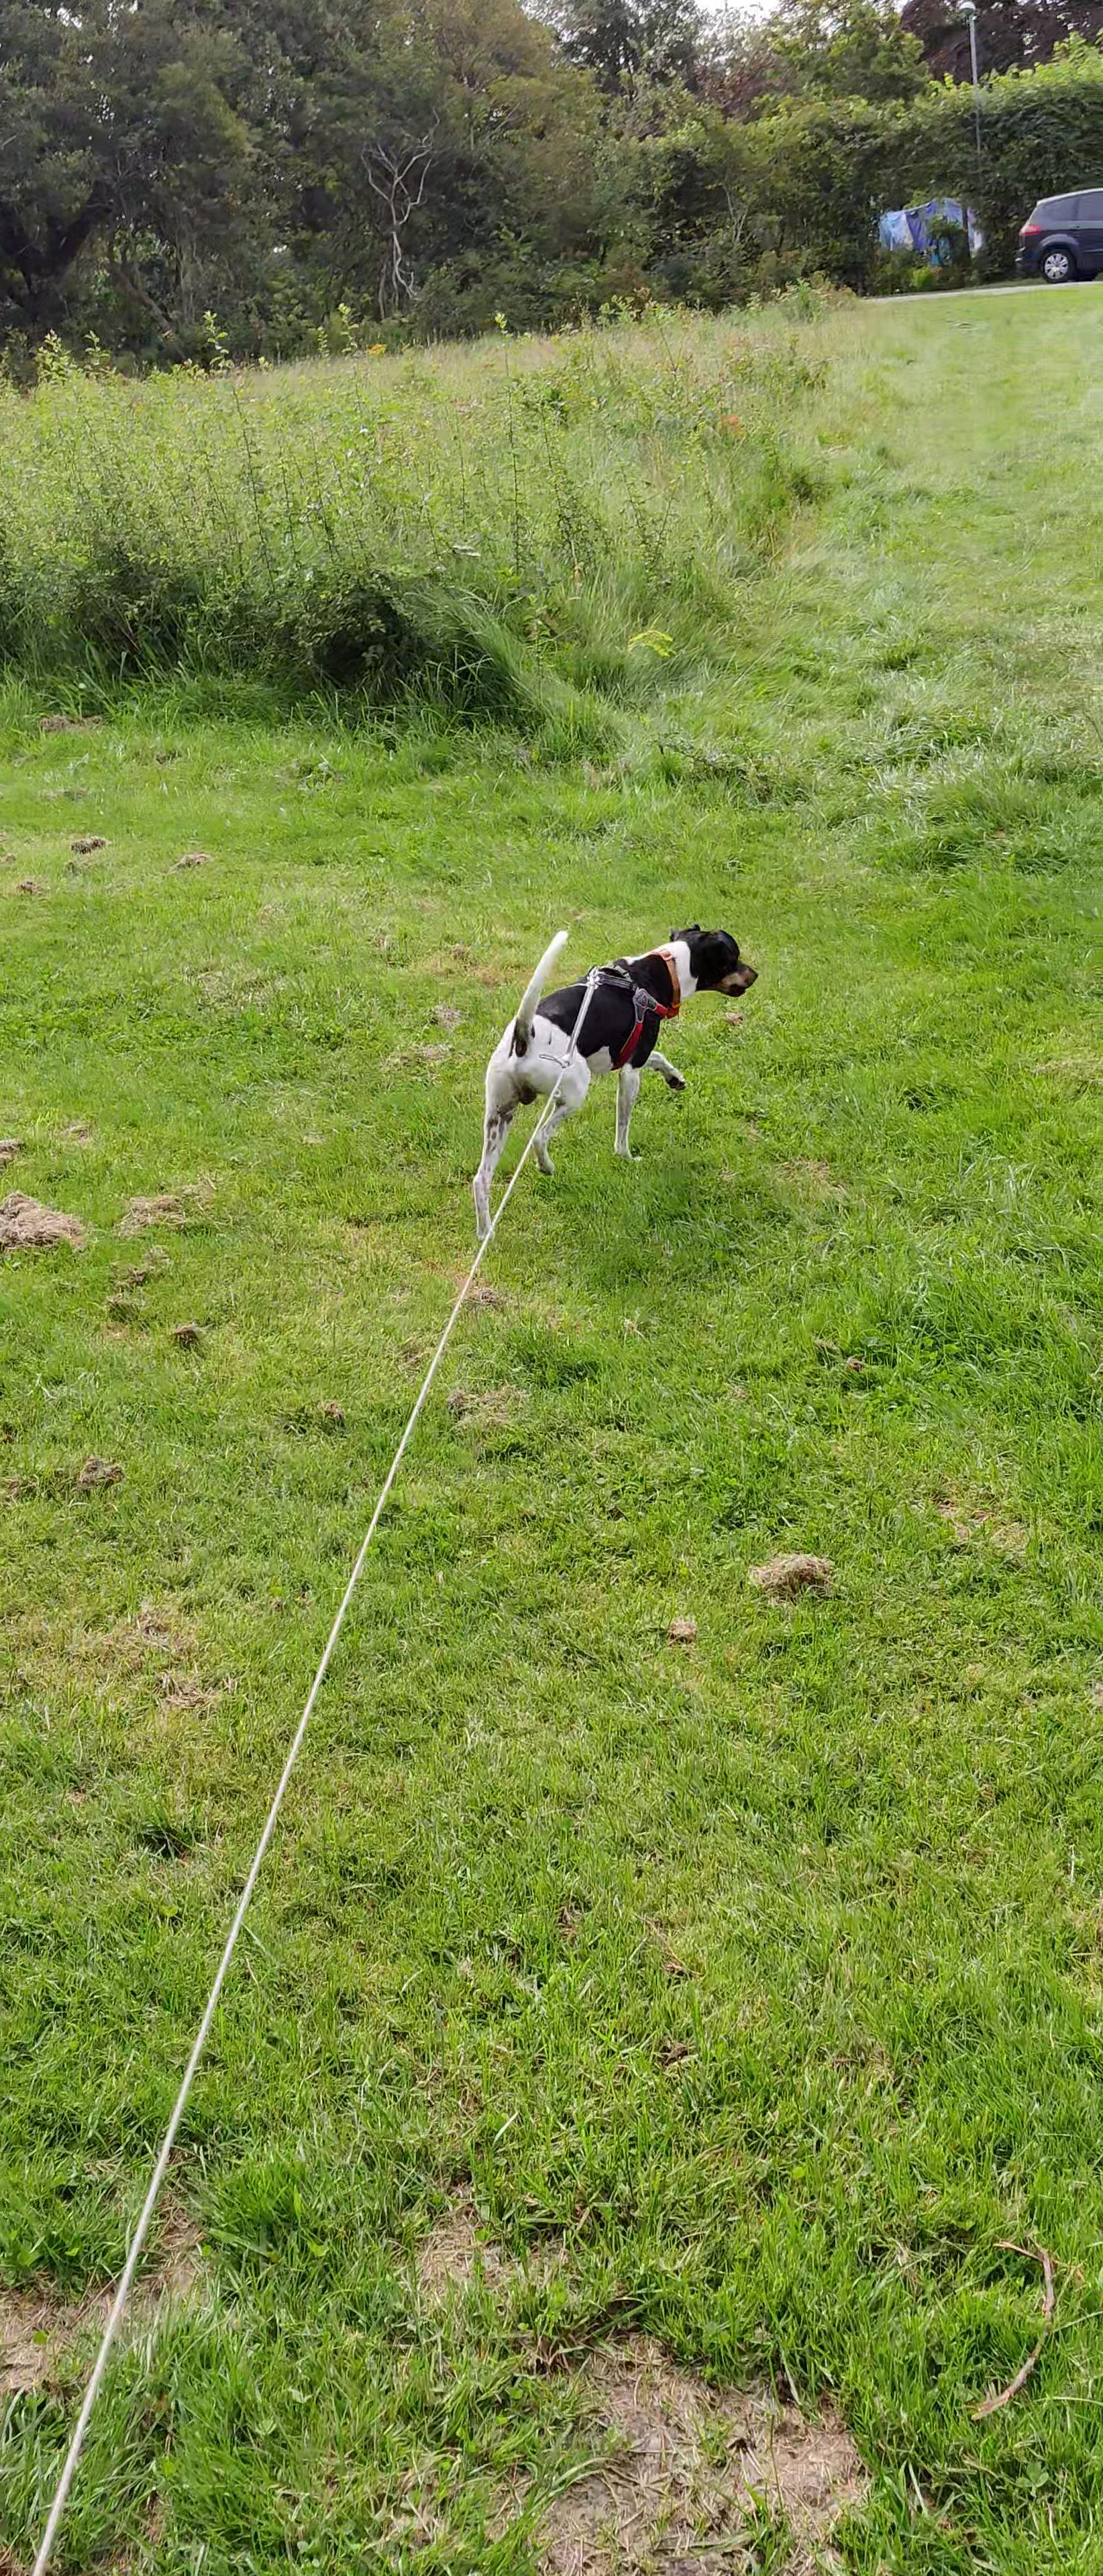Dog: (465, 918, 763, 1250)
